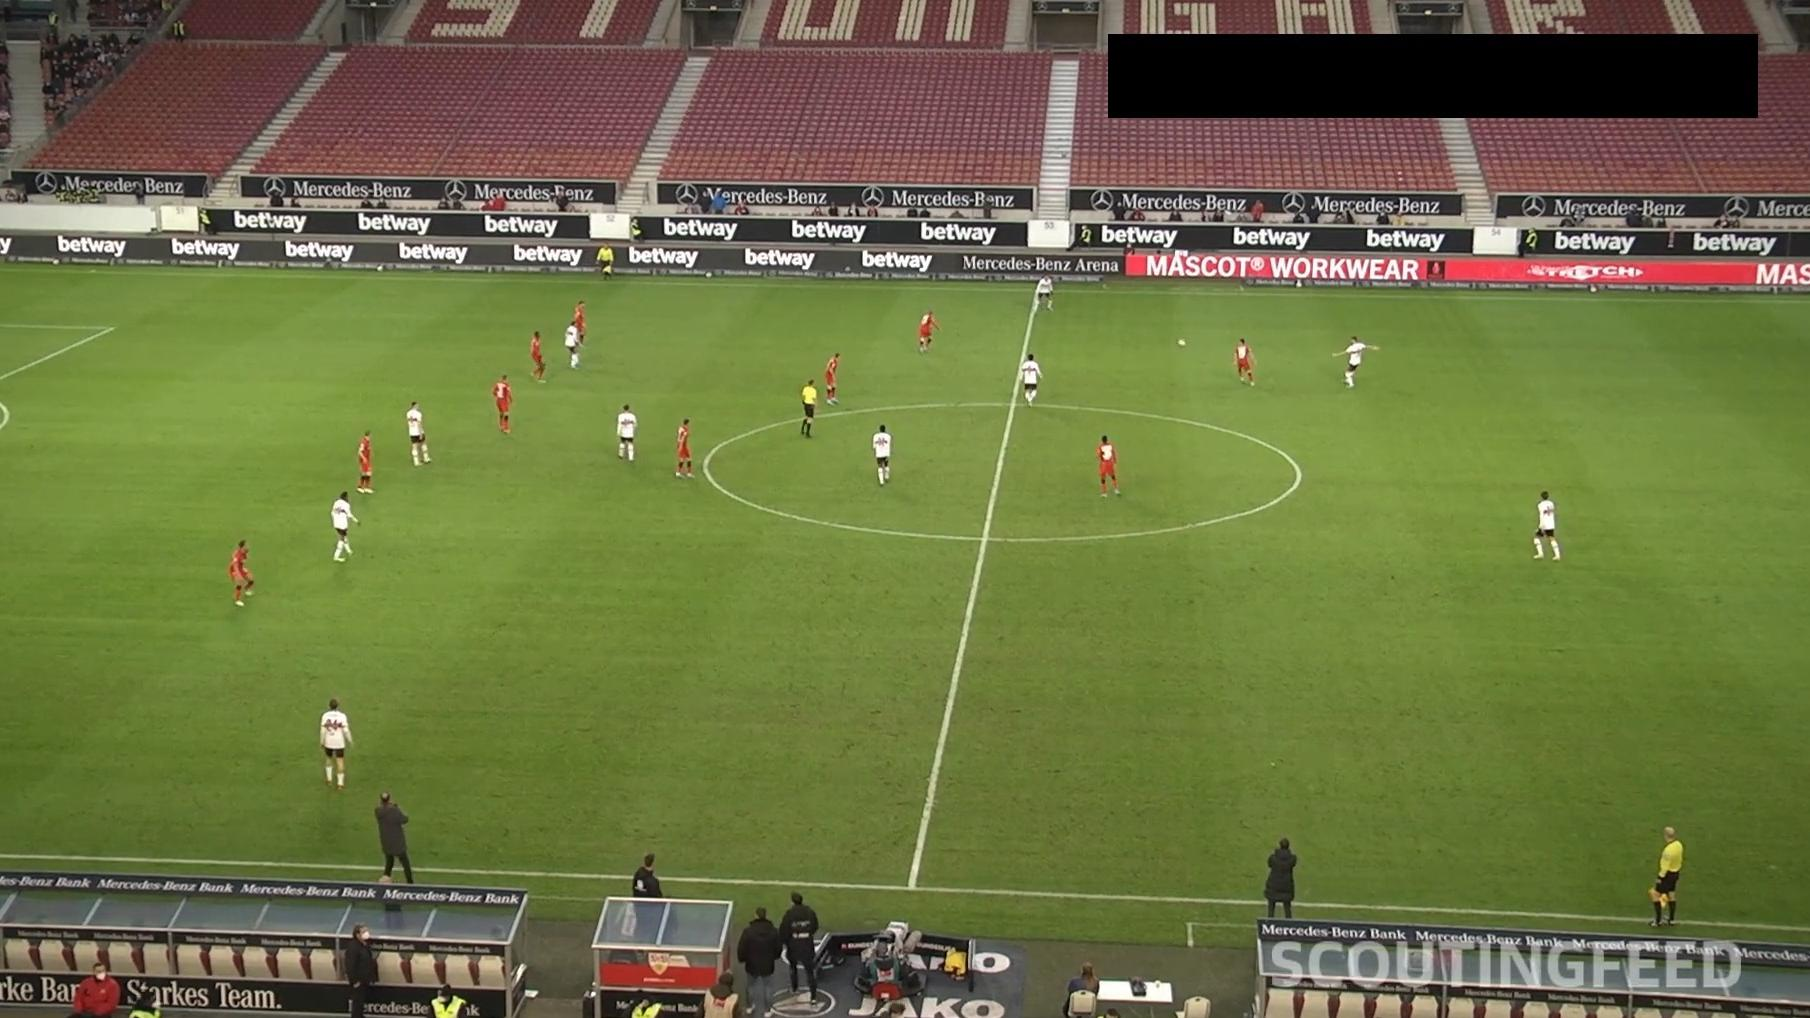ball: (1175, 337, 1188, 348)
